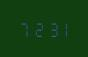one: (57, 20, 69, 37)
seven: (18, 20, 30, 37)
three: (44, 20, 56, 37)
two: (31, 20, 43, 37)
